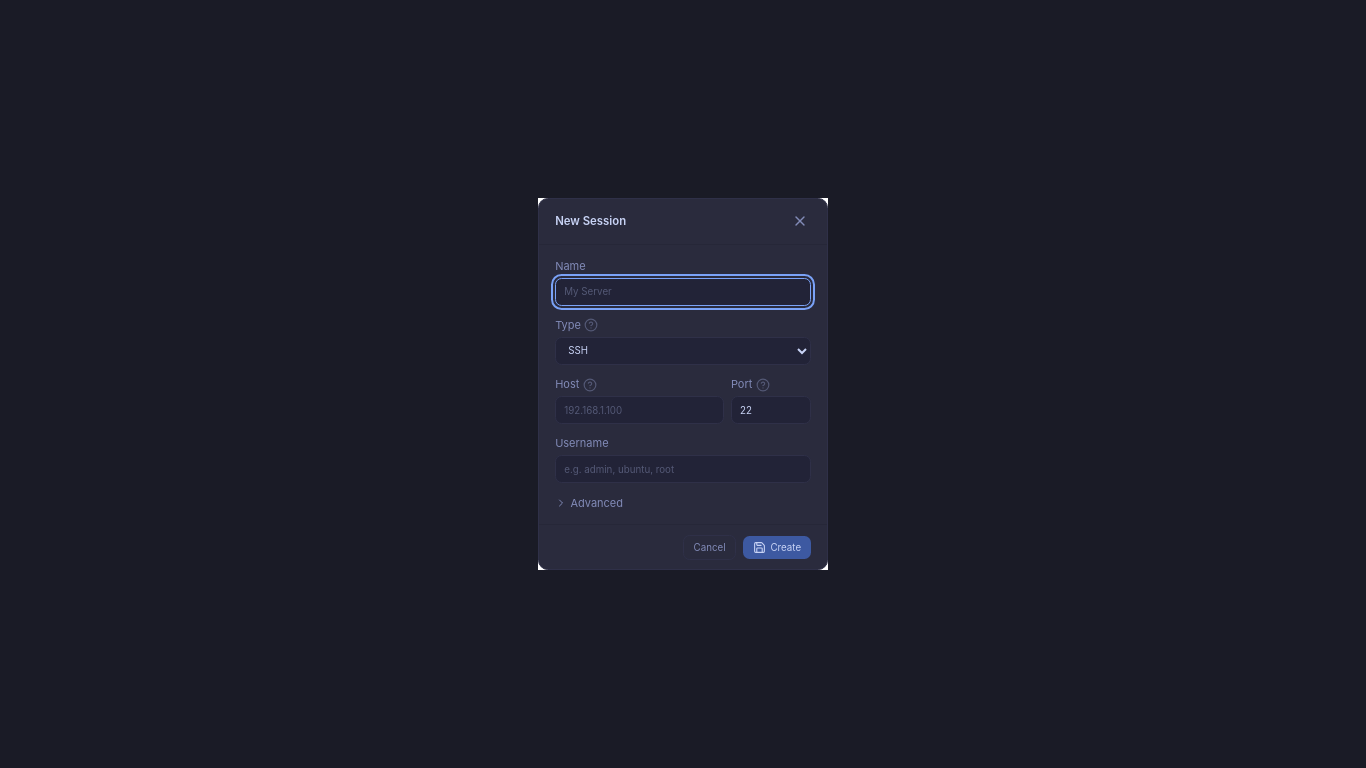
Test: SessionEditor › clicking the Advanced toggle reveals the advanced fields
This screenshot has width=1366, height=768.
Click the button "Advanced".
click(589, 503)  # box [555,494,623,511]
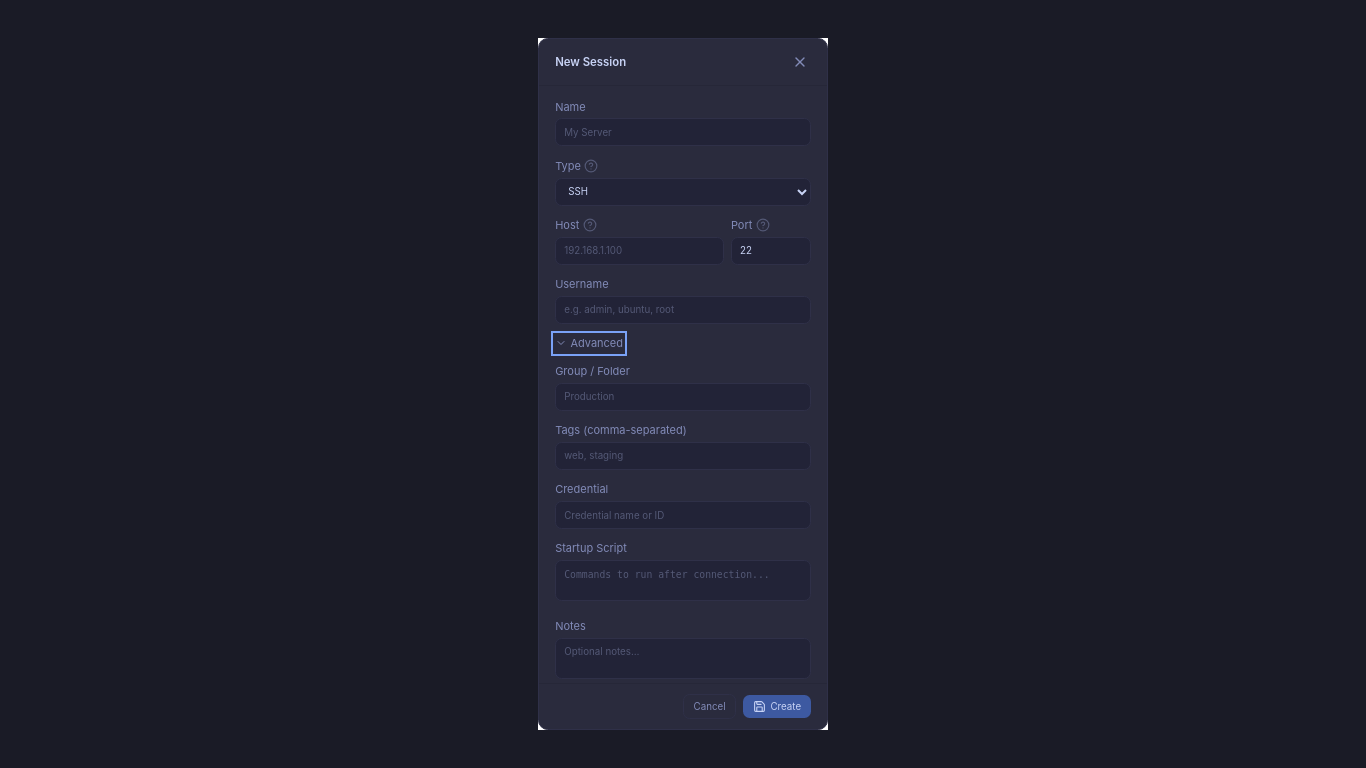
Now the button "Advanced" is expanded, box [555,335,623,352]
Now the field with placeholder "Production" is shown, box [555,383,811,411]
Now the field with placeholder "web, staging" is shown, box [555,442,811,470]
